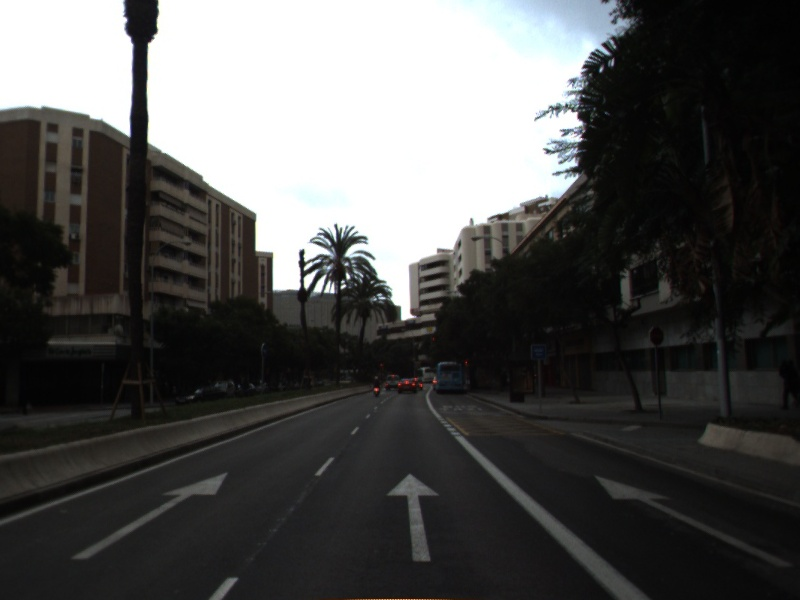STRAIGHT: (592, 471, 796, 570), (67, 467, 232, 563), (382, 470, 445, 564)
